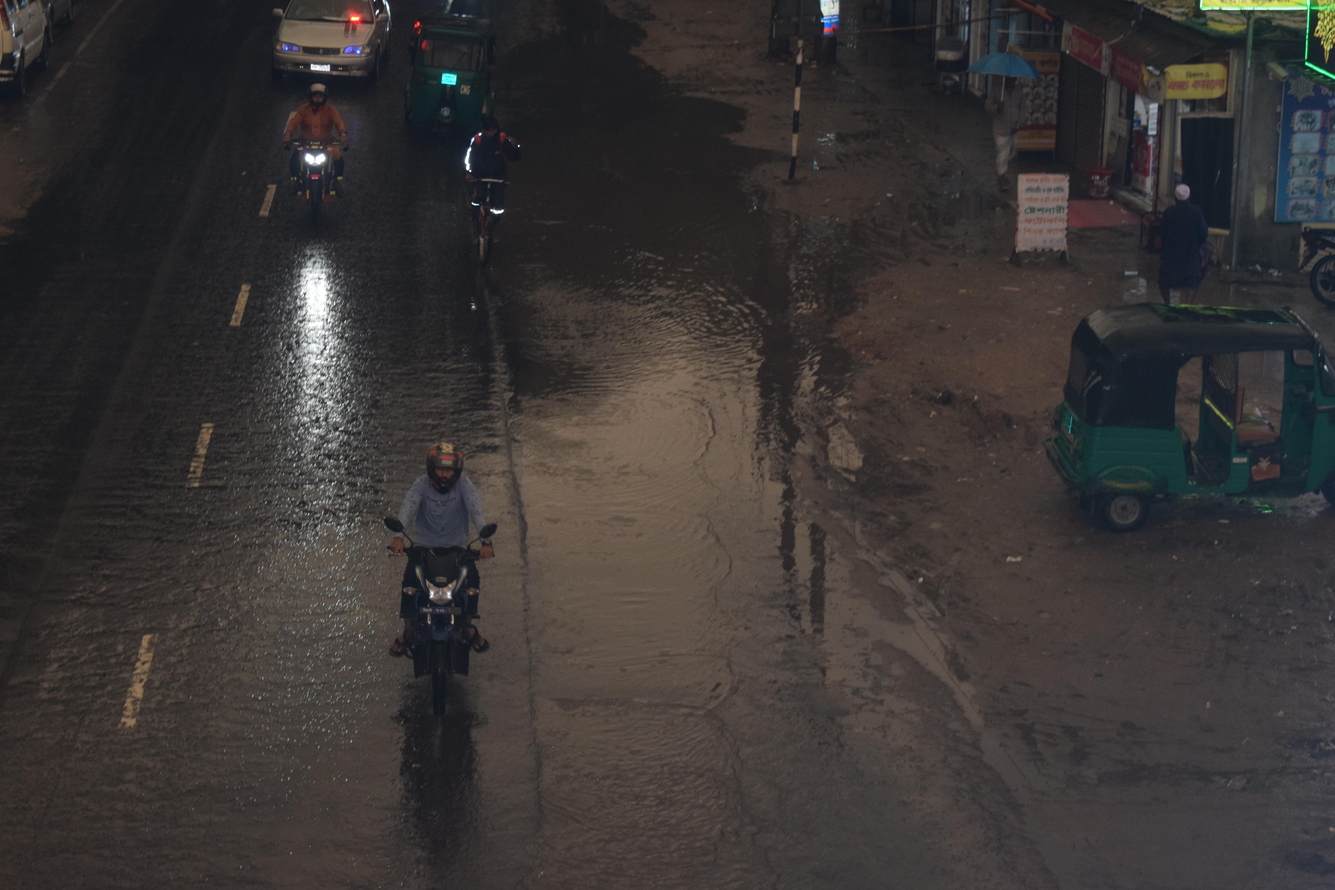Bike: (327, 396, 549, 734), (241, 64, 394, 256), (434, 85, 545, 282)
Car: (248, 0, 420, 95)
